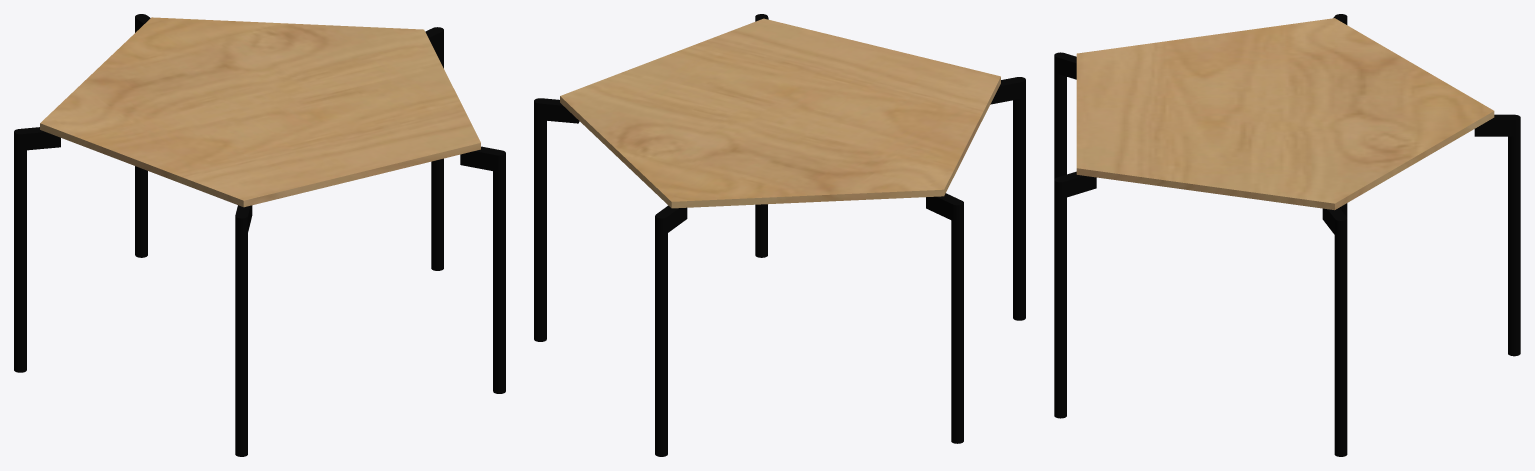
Rendered from newpentagon.fbx.
The picture shows the model from 3 angles, left to right: view 1: azimuth 30°, elevation 25°; view 2: azimuth 150°, elevation 25°; view 3: azimuth 270°, elevation 25°; orthographic projection.
Visible parts, largest first — view 1: pentagon, support.002, support.003, support.001, support.004, support, sub_support.001, sub_support.004; view 2: pentagon, support, support.001, support.004, support.002, support.003, sub_support.003, sub_support.002, sub_support.001; view 3: pentagon, support.004, support.003, support, support.002, sub_support, sub_support.004.
Boxes of the visible parts, x1,y1,x2,y2 form: pentagon: (40,17,480,207); support.002: (235,214,247,456); support.003: (493,150,505,393); support.001: (14,129,26,372); support.004: (431,27,443,270); support: (135,14,147,257); sub_support.001: (19,127,60,150); sub_support.004: (460,146,501,171); pentagon: (560,18,1000,208); support: (655,213,667,456); support.001: (951,200,963,443); support.004: (534,98,546,341); support.002: (1013,77,1025,320); support.003: (755,14,767,257); sub_support.003: (539,98,579,123); sub_support.002: (990,77,1021,104); sub_support.001: (926,193,961,220); pentagon: (1076,18,1494,210); support.004: (1334,215,1347,456); support.003: (1054,177,1066,418); support: (1508,114,1520,356); support.002: (1054,52,1066,178); sub_support: (1474,114,1514,136); sub_support.004: (1057,171,1096,198).
Bounding box in the file's own units: 2706 × 1480 × 2577.
3 materials, 1 textured.
